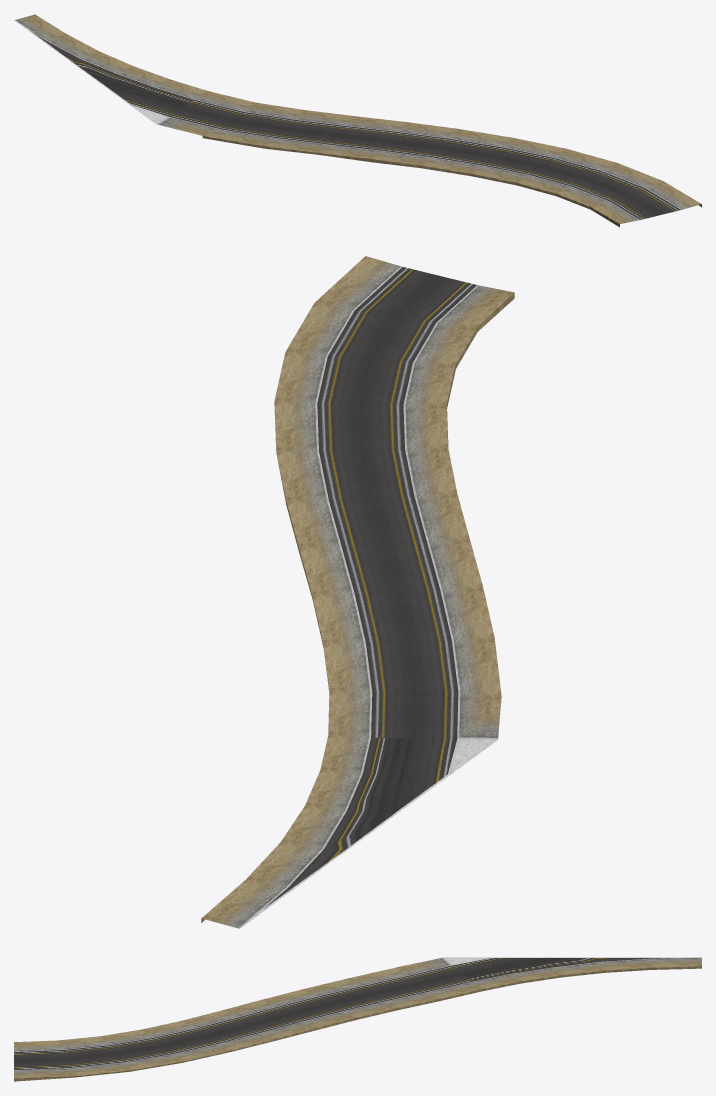
File: vegaseroad064.obj
The picture shows the model from 3 angles, top to bottom: view 1: azimuth 30°, elevation 25°; view 2: azimuth 150°, elevation 25°; view 3: azimuth 270°, elevation 25°; orthographic projection. The views are drawn at different scales.
Parts seen in each view (by area): view 1: vegasEroad064; view 2: vegasEroad064; view 3: vegasEroad064.
Boxes of the visible parts, box(x1,y1,x2,y2) form: vegasEroad064: box(14, 14, 701, 227); vegasEroad064: box(201, 256, 514, 928); vegasEroad064: box(14, 957, 701, 1081).
Size of the model in its own units: 75.45 by 4.63 by 160.
Materials: 5 (5 with a texture image).
